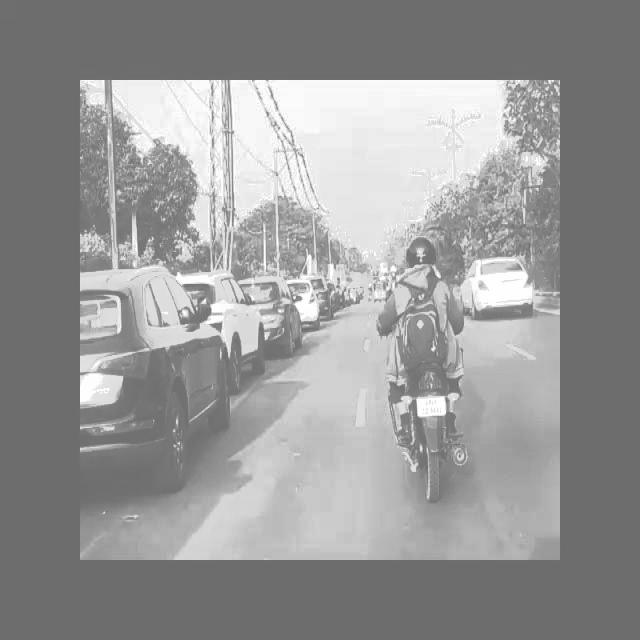Bike: (374, 236, 488, 512)
Car: (81, 256, 227, 494), (201, 262, 255, 386), (459, 244, 535, 324), (258, 272, 299, 364), (292, 264, 319, 328)
